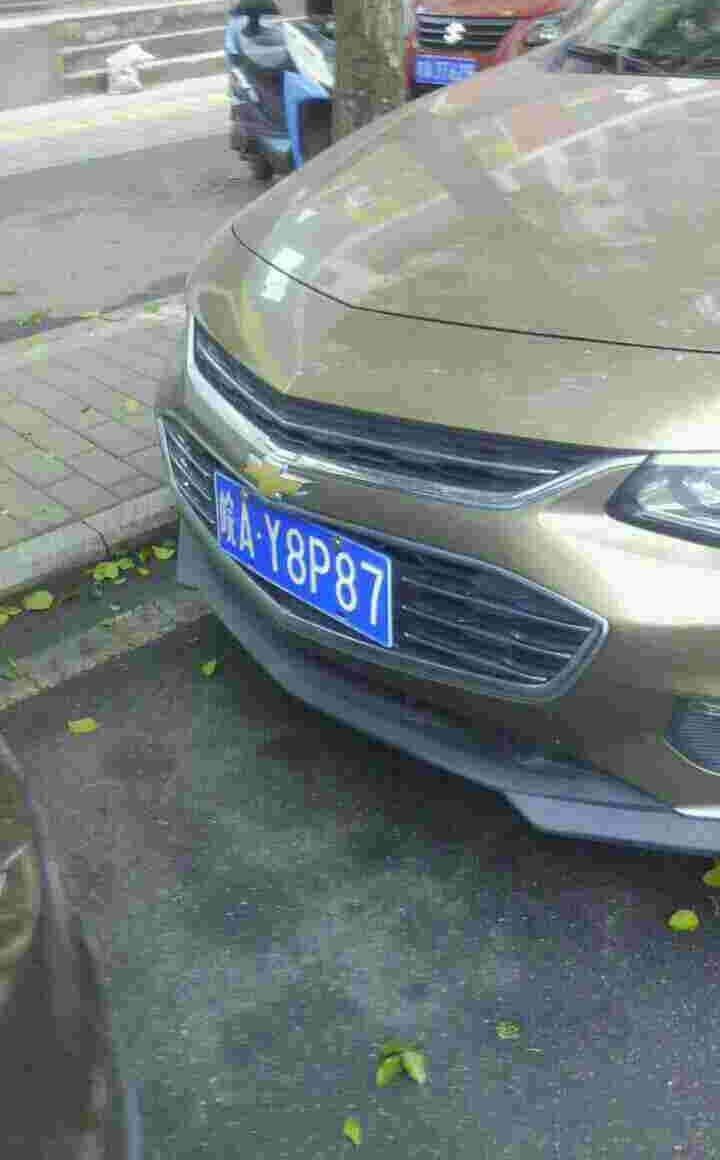license_plate: (215, 478, 393, 633)
